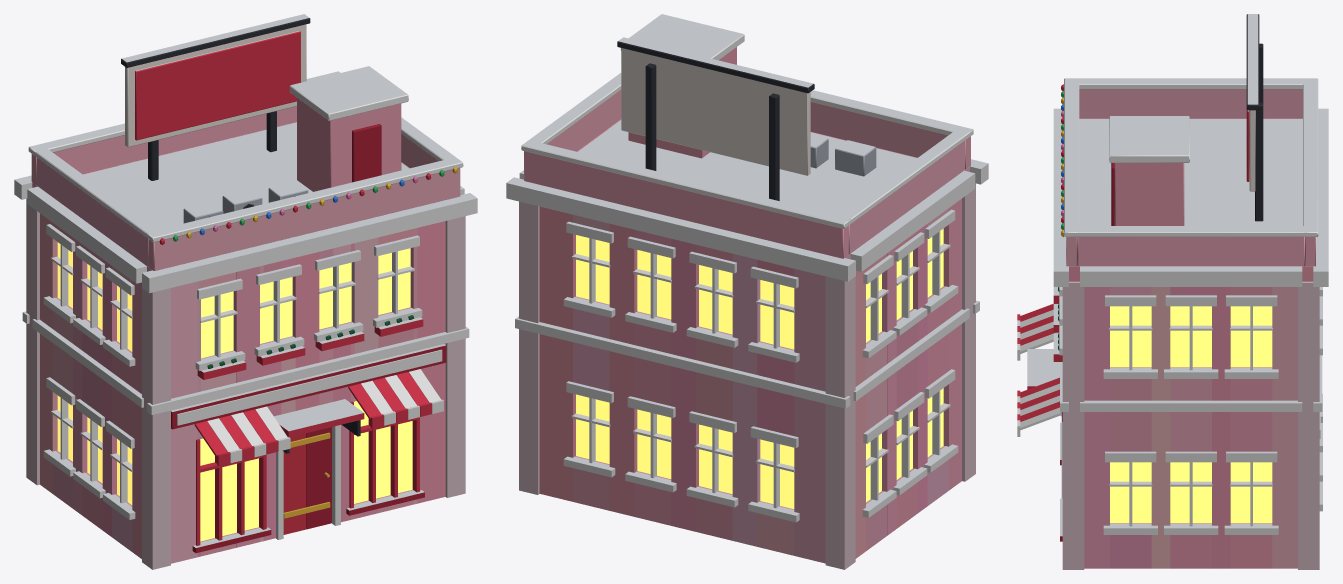
The model's file is Shop_Candy.glb.
The picture shows the model from 3 angles, left to right: view 1: azimuth 30°, elevation 25°; view 2: azimuth 150°, elevation 25°; view 3: azimuth 270°, elevation 25°; orthographic projection. The views are drawn at different scales.
Parts seen in each view (by area): view 1: Shop_Candy_Roof, Shop_Candy_Trim, Shop_Candy_Walls, Shop_Candy_Shopfront, Shop_Candy_Glow, Shop_Candy_Balconies, Shop_Candy_Lights; view 2: Shop_Candy_Walls, Shop_Candy_Roof, Shop_Candy_Trim, Shop_Candy_Glow; view 3: Shop_Candy_Roof, Shop_Candy_Walls, Shop_Candy_Trim, Shop_Candy_Glow, Shop_Candy_Shopfront, Shop_Candy_Balconies, Shop_Candy_Lights.
Part boxes in pixels (box(x1,y1,x2,y2)): Shop_Candy_Roof: box(28, 14, 463, 270); Shop_Candy_Trim: box(14, 175, 477, 569); Shop_Candy_Walls: box(32, 122, 445, 563); Shop_Candy_Shopfront: box(171, 344, 446, 539); Shop_Candy_Glow: box(57, 242, 412, 541); Shop_Candy_Balconies: box(197, 315, 423, 379); Shop_Candy_Lights: box(159, 166, 457, 244); Shop_Candy_Walls: box(539, 119, 969, 563); Shop_Candy_Roof: box(521, 14, 973, 258); Shop_Candy_Trim: box(506, 159, 988, 569); Shop_Candy_Glow: box(576, 228, 943, 508); Shop_Candy_Roof: box(1064, 14, 1318, 266); Shop_Candy_Walls: box(1069, 118, 1313, 568); Shop_Candy_Trim: box(1053, 108, 1328, 569); Shop_Candy_Glow: box(1110, 306, 1272, 523); Shop_Candy_Shopfront: box(1017, 303, 1062, 498); Shop_Candy_Balconies: box(1053, 287, 1062, 361); Shop_Candy_Lights: box(1061, 84, 1063, 236).
Size of the model in its own units: 27.8 by 34.45 by 22.42.
